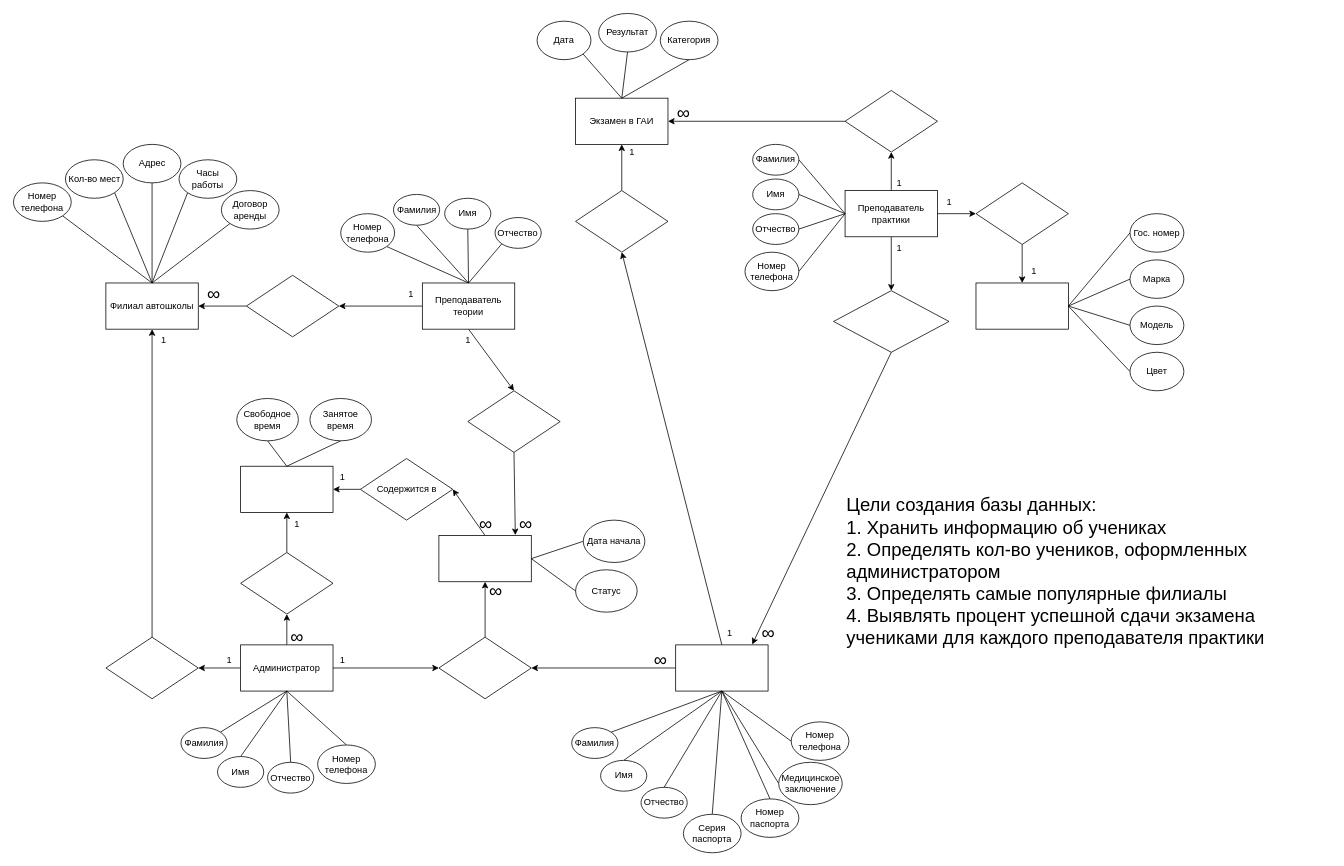
Some shapes in this 1344 by 866 pixel diagram are drawn without their labels. The shapes that lost their labels are listed below. From the top down, each one's centre as x and y in pixels, then its label:
the point at 890,121: Присутствовать
the point at 621,221: Сдать
the point at 1021,213: Владеть
the point at 292,306: Преподаёт в
the point at 891,321: Проводит занятия для
the point at 1021,305: Транспортное средство
the point at 513,421: Закреплён за
the point at 286,488: Расписание занятий
the point at 484,558: Группа
the point at 286,583: Создать
the point at 151,667: Управлять
the point at 484,667: Добавить
the point at 721,667: Ученик
